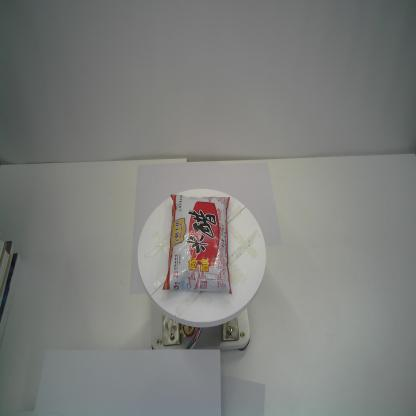Seasoner: (162, 194, 232, 294)
